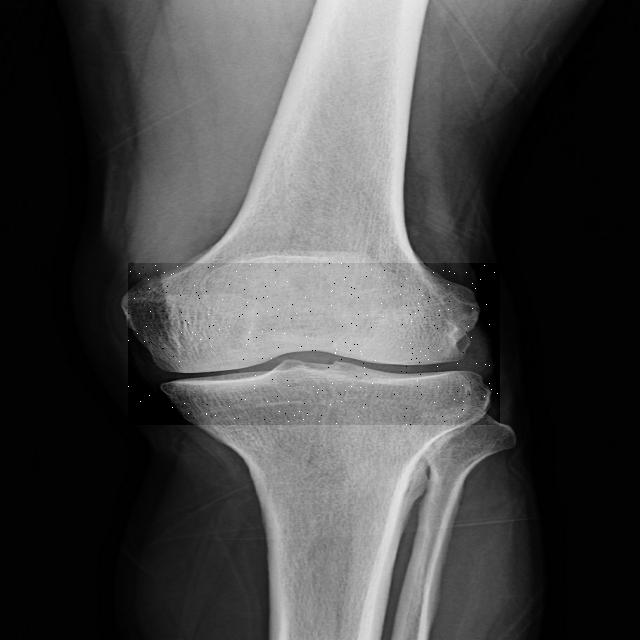osteo: (128, 263, 500, 425)
